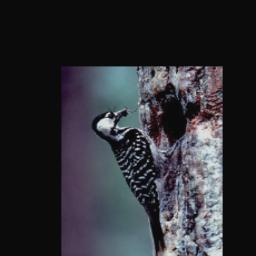Woodpecker: (90, 105, 176, 252)
